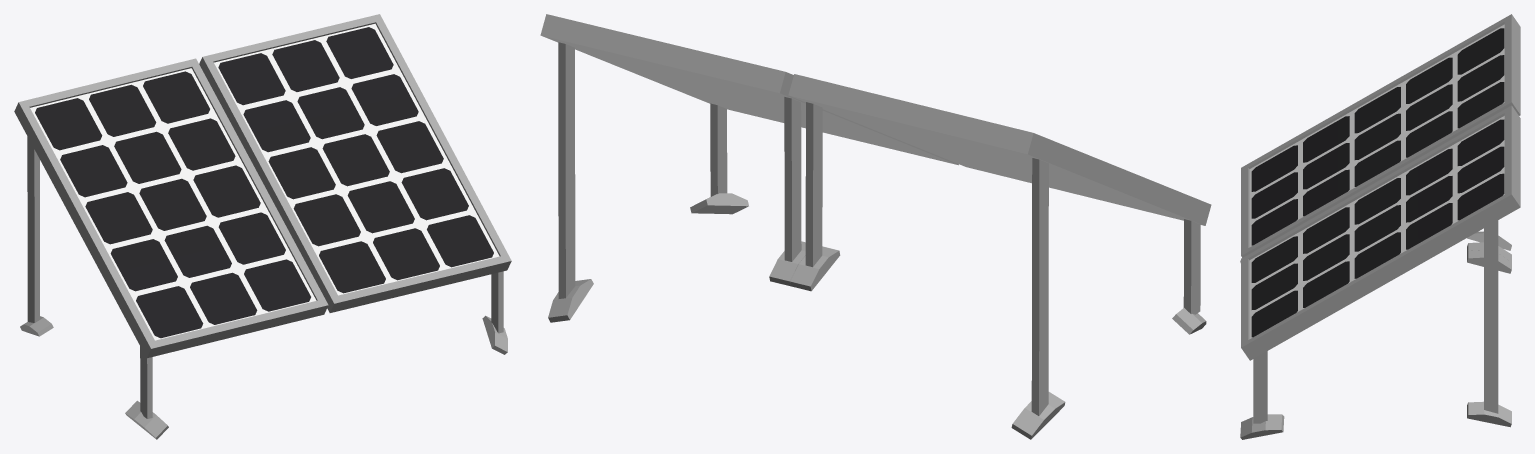
Rendered from pv-module-tilted.glb.
The picture shows the model from 3 angles, left to right: view 1: azimuth 30°, elevation 25°; view 2: azimuth 150°, elevation 25°; view 3: azimuth 270°, elevation 25°; orthographic projection. The views are drawn at different scales.
Visible parts, largest first — view 1: SolarPanel_Roof; view 2: SolarPanel_Roof; view 3: SolarPanel_Roof.
Part boxes in pixels (x1,y1,x2,y2): SolarPanel_Roof: (14, 14, 511, 439); SolarPanel_Roof: (540, 14, 1211, 439); SolarPanel_Roof: (1240, 14, 1520, 439).
Size of the model in its own units: 3 by 1.87 by 1.91.
Materials: 1 (1 with a texture image).
